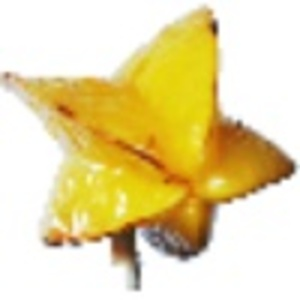carambola: (1, 4, 300, 287)
